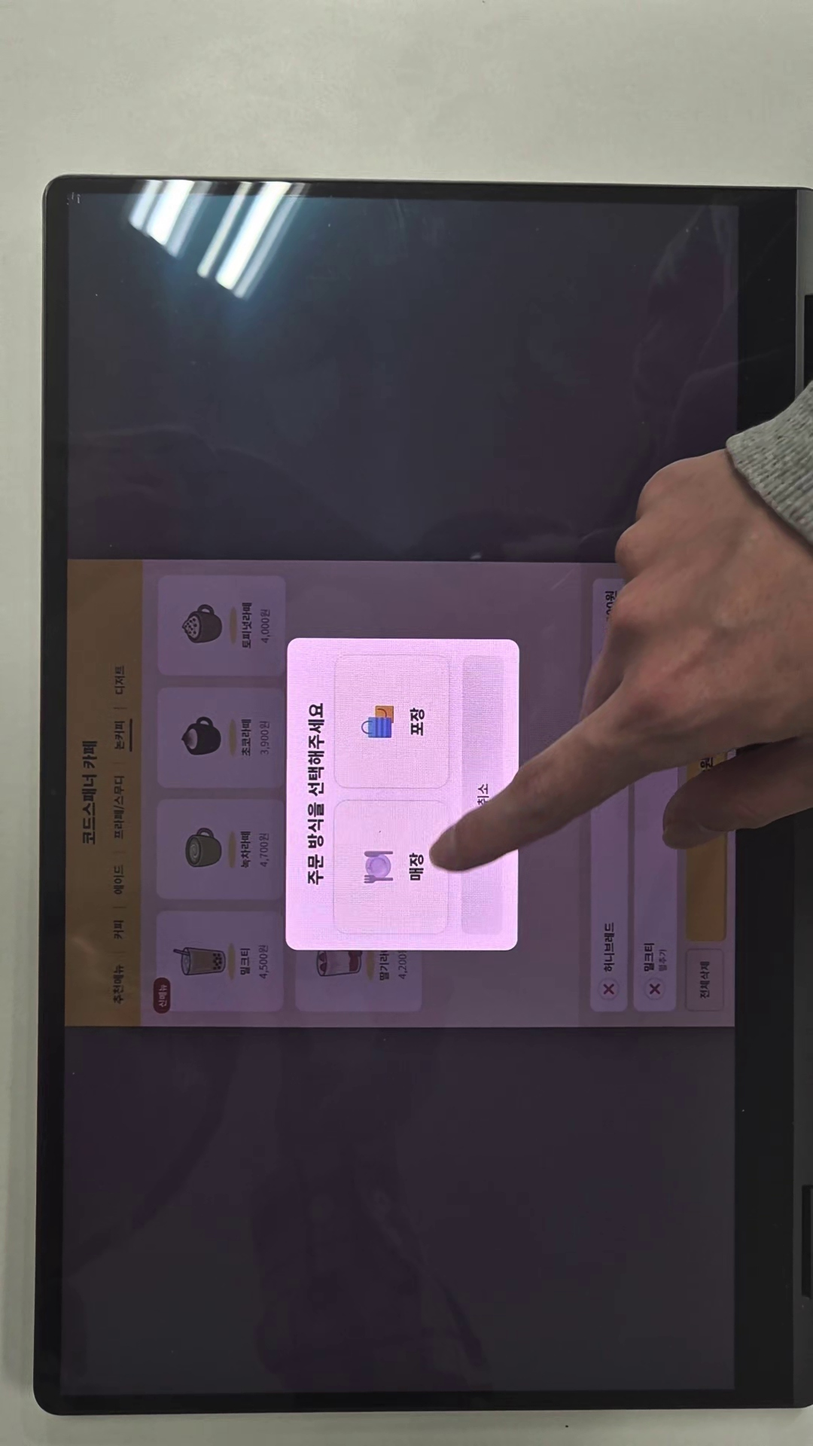action_button: (461, 655, 504, 934)
option_button: (334, 655, 450, 789), (333, 800, 448, 934)
popup_modal: (285, 637, 520, 951)
